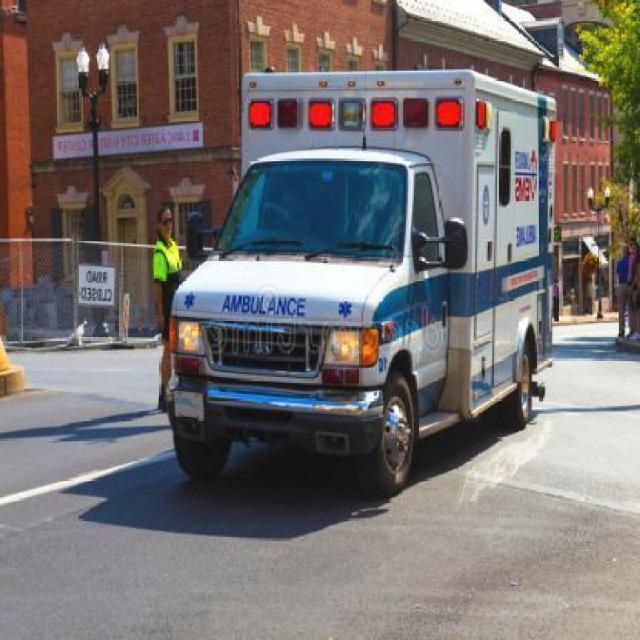emergency: (162, 66, 560, 494)
